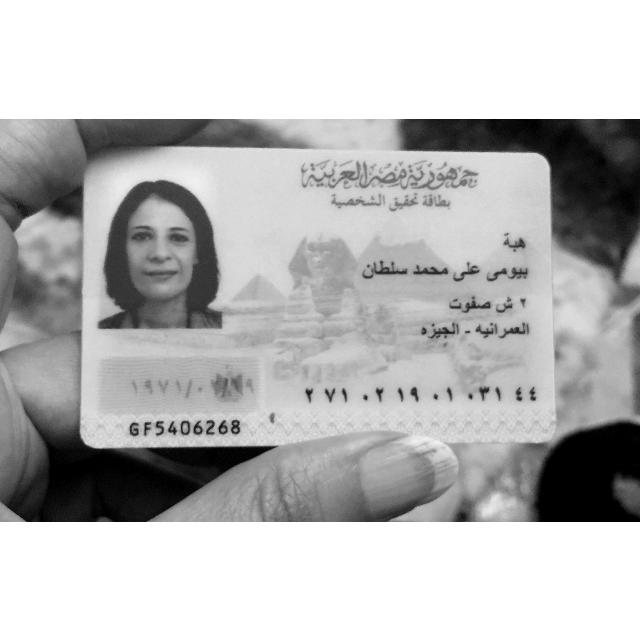id_card: (79, 146, 556, 447)
